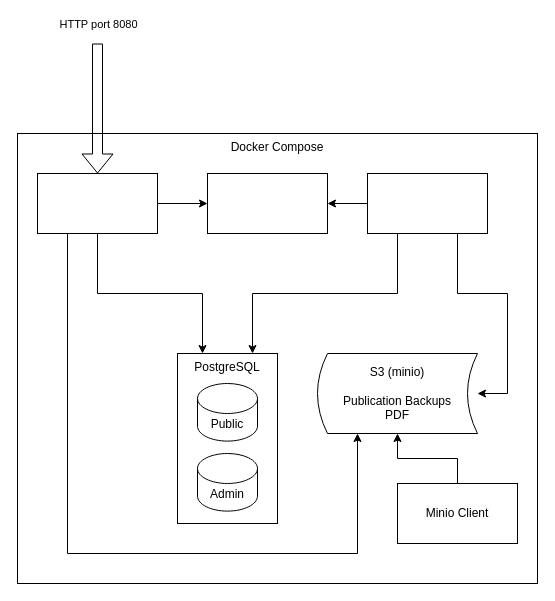
Image size: 555x601. Some labels were removed from this diagram. Each missing label, with the centre of its shape:
"Celery worker" belongs at (x=427, y=203).
"Redis Celery backend" belongs at (x=267, y=203).
"ThinkHazard Public and Admin WebApps" belongs at (x=97, y=203).
